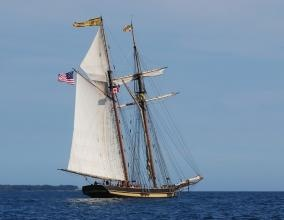fanchuan: (63, 16, 201, 196)
